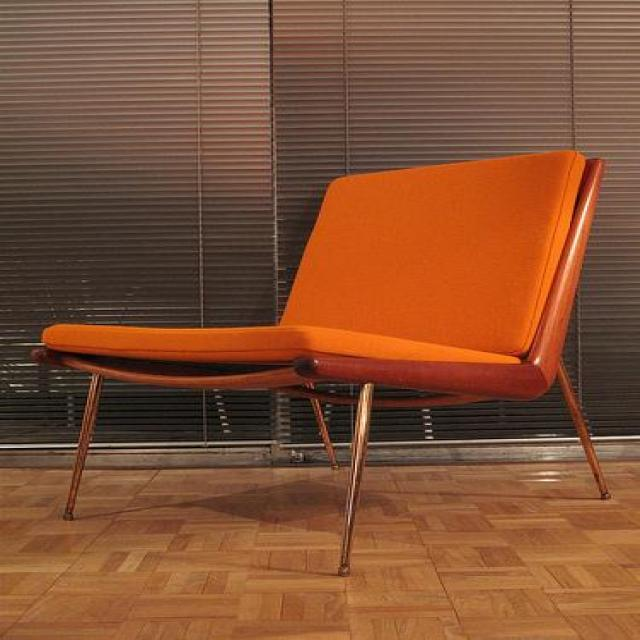chair: (27, 146, 609, 578)
